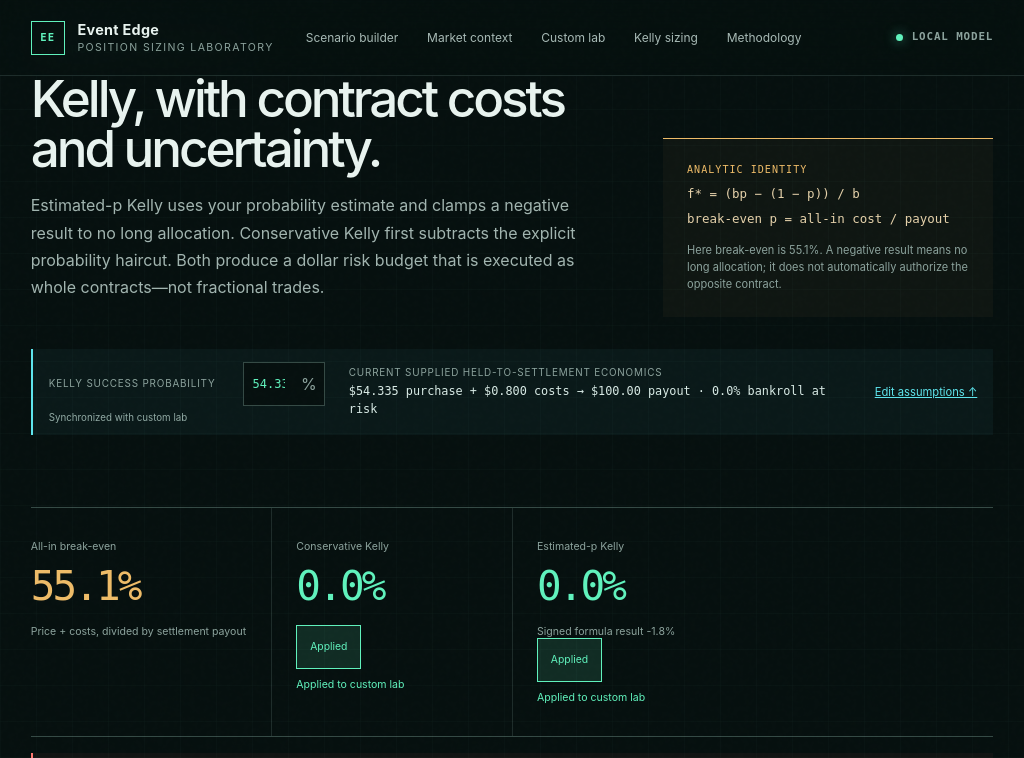
it: App › recomputes Kelly fractions from its synchronized probability control
This screenshot has width=1024, height=758.
(page scrolled)
Replace the text in the number field labelled "Kelly success probability" with "60" at (284, 384), box x1=243 y1=362 x2=325 y2=406
(page scrolled)
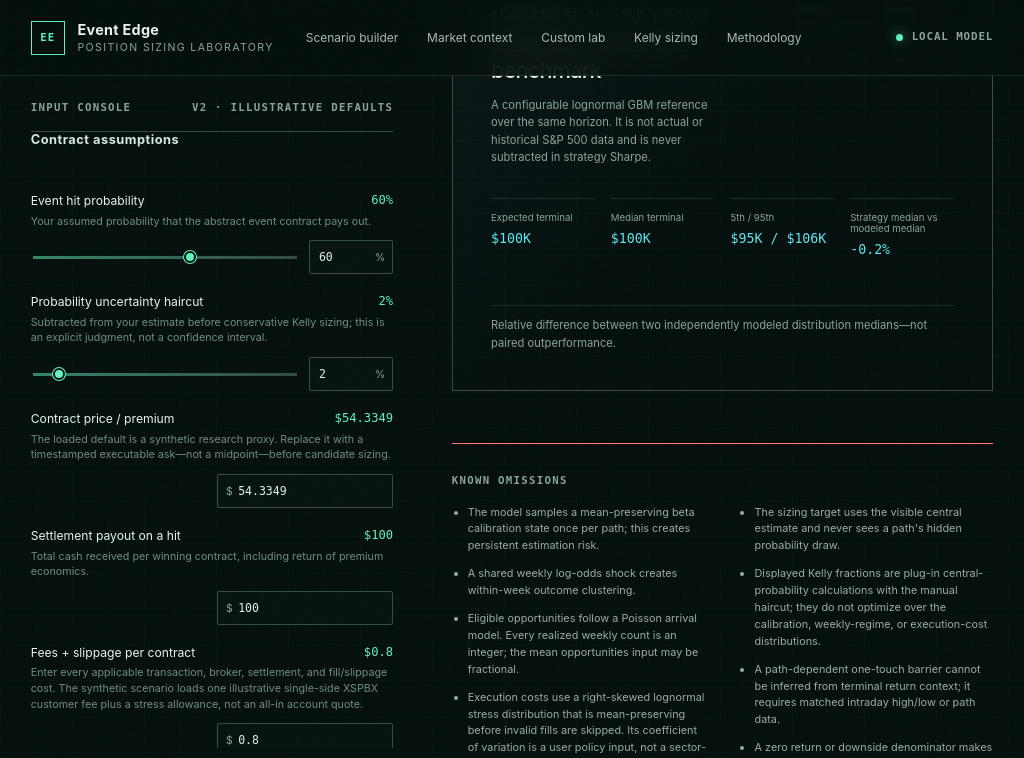
Check: the number field labelled "Event hit probability" holds "60", box x1=309 y1=240 x2=393 y2=274
